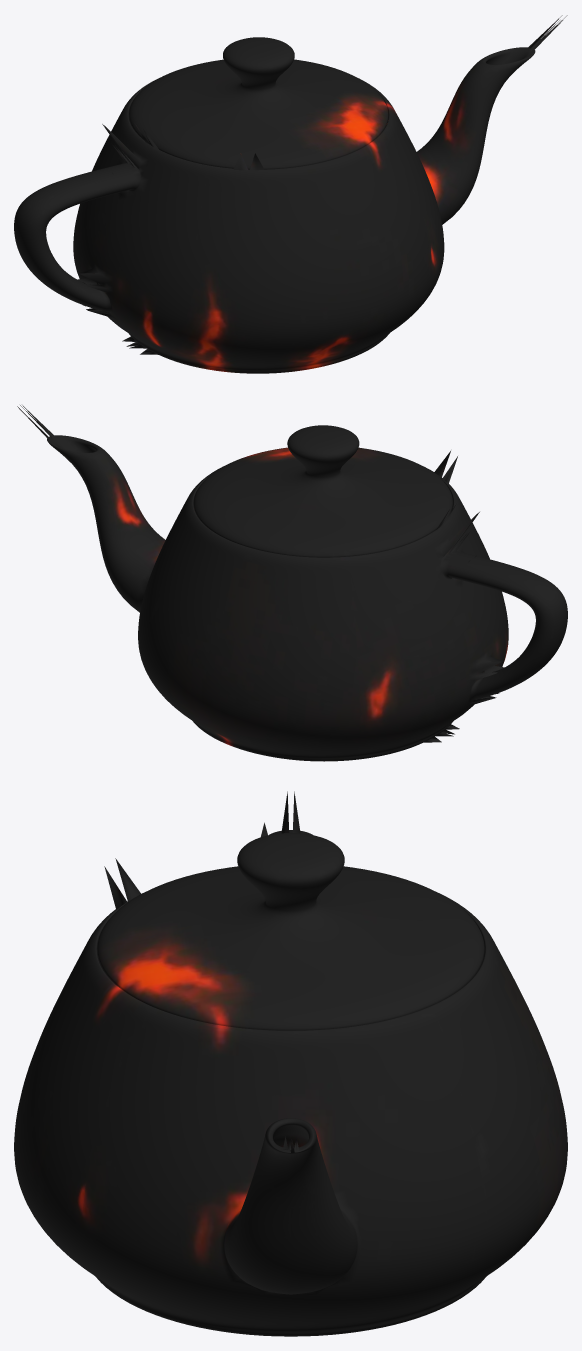
Rendered from frame_0003.glb.
3 renders of one model, top to bottom at view 1: azimuth 30°, elevation 25°; view 2: azimuth 150°, elevation 25°; view 3: azimuth 270°, elevation 25°, orthographic. The views are drawn at different scales.
Parts seen in each view (by area): view 1: world; view 2: world; view 3: world.
Boxes of the visible parts, bbox=[...] form: world: bbox=[14, 15, 567, 373]; world: bbox=[17, 405, 567, 761]; world: bbox=[14, 791, 567, 1336].
Size of the model in its own units: 1 by 0.4811 by 0.5823.
1 material, 1 textured.
